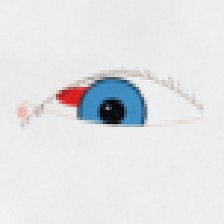hemorrhage_spot: (46, 66, 123, 128)
